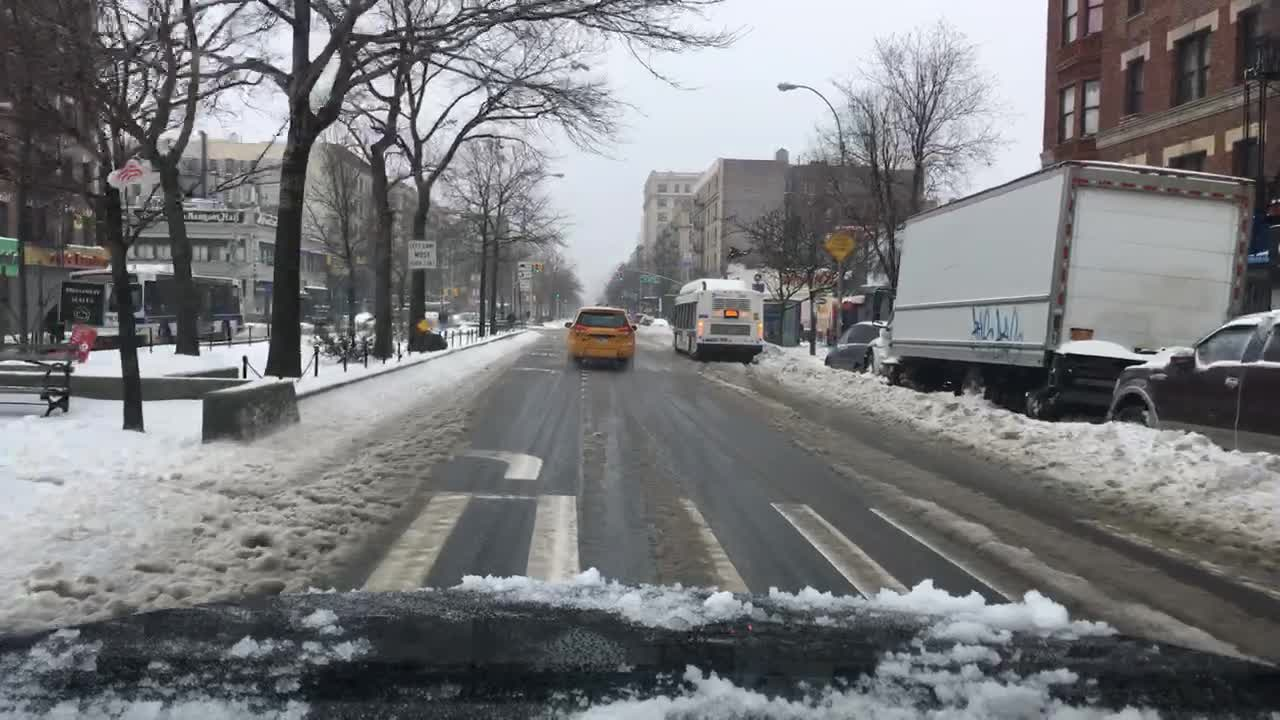bus: (40, 264, 242, 346), (671, 277, 762, 363)
car: (1108, 310, 1279, 456), (565, 306, 635, 365), (824, 318, 885, 370)
traffic sign: (826, 228, 859, 259), (408, 240, 436, 268), (516, 260, 531, 279), (640, 274, 660, 281), (521, 283, 531, 293)
truck: (865, 157, 1260, 416)
